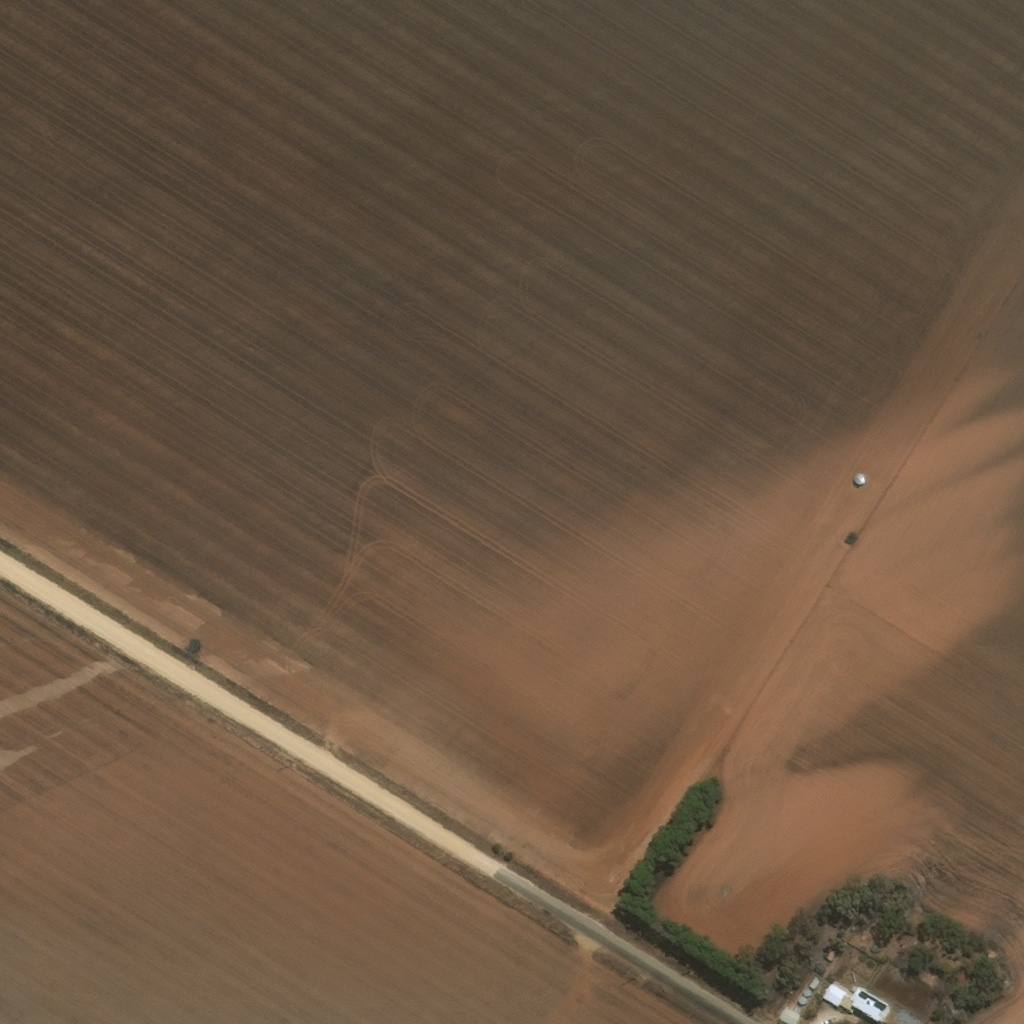0 no-damage: (854, 982, 892, 1019), (822, 978, 849, 1004), (778, 1002, 800, 1023), (840, 991, 857, 1010), (852, 982, 863, 997), (809, 975, 821, 987), (824, 949, 835, 959), (798, 994, 807, 1002), (804, 986, 811, 993)
